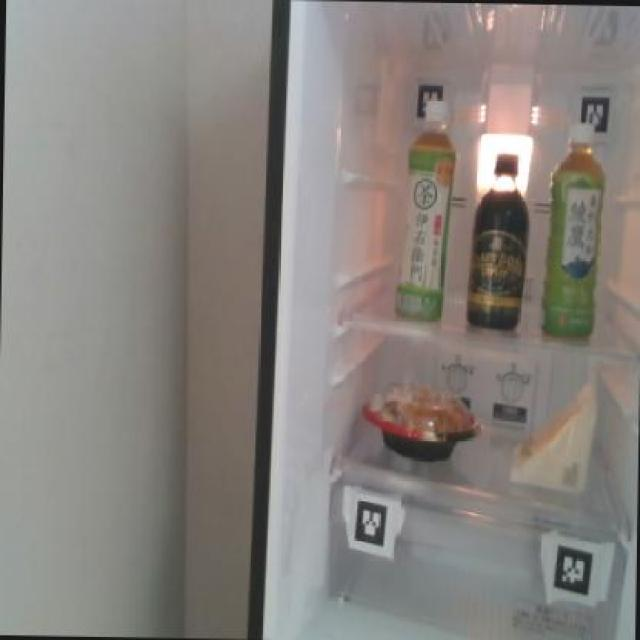bento: (362, 382, 484, 464)
coffee: (464, 152, 532, 330)
sandwich: (508, 376, 596, 492)
tea_a: (538, 131, 606, 340)
tea_i: (393, 116, 456, 321)
